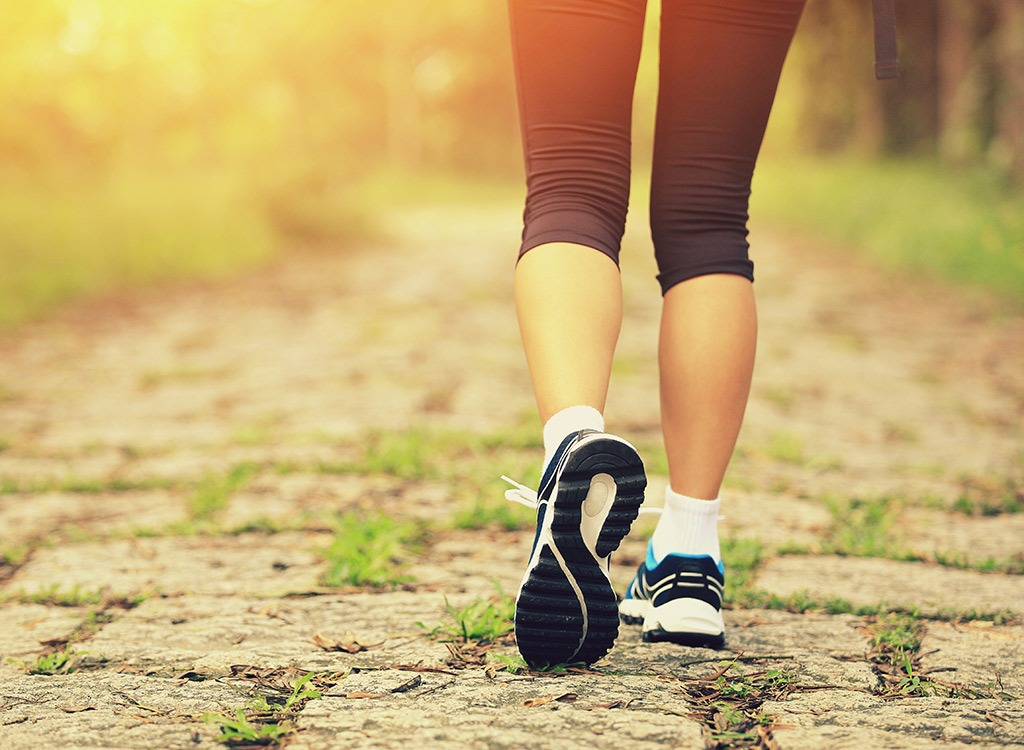feet: (484, 432, 772, 678)
